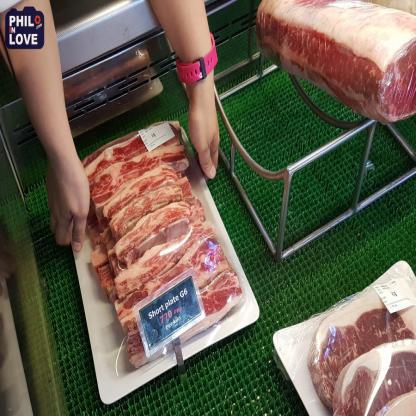beef: (92, 142, 209, 282)
